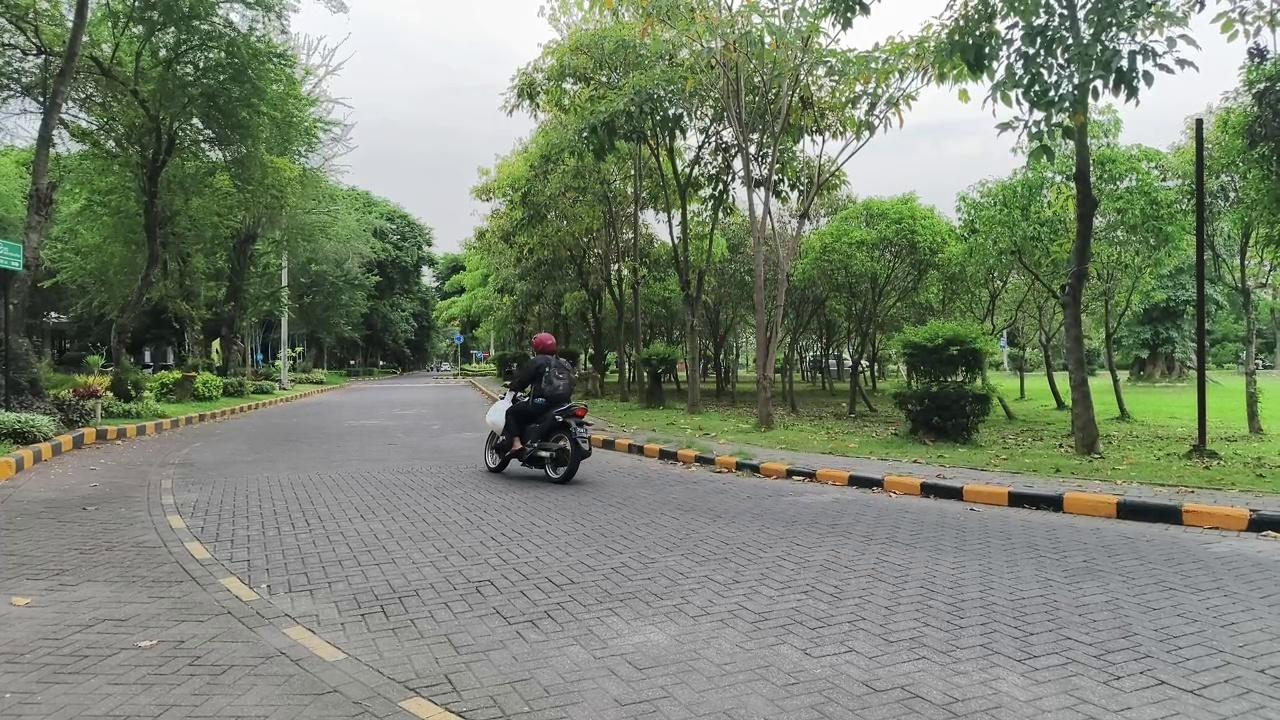Helmet: (504, 333, 571, 456)
Motor: (484, 391, 591, 483)
